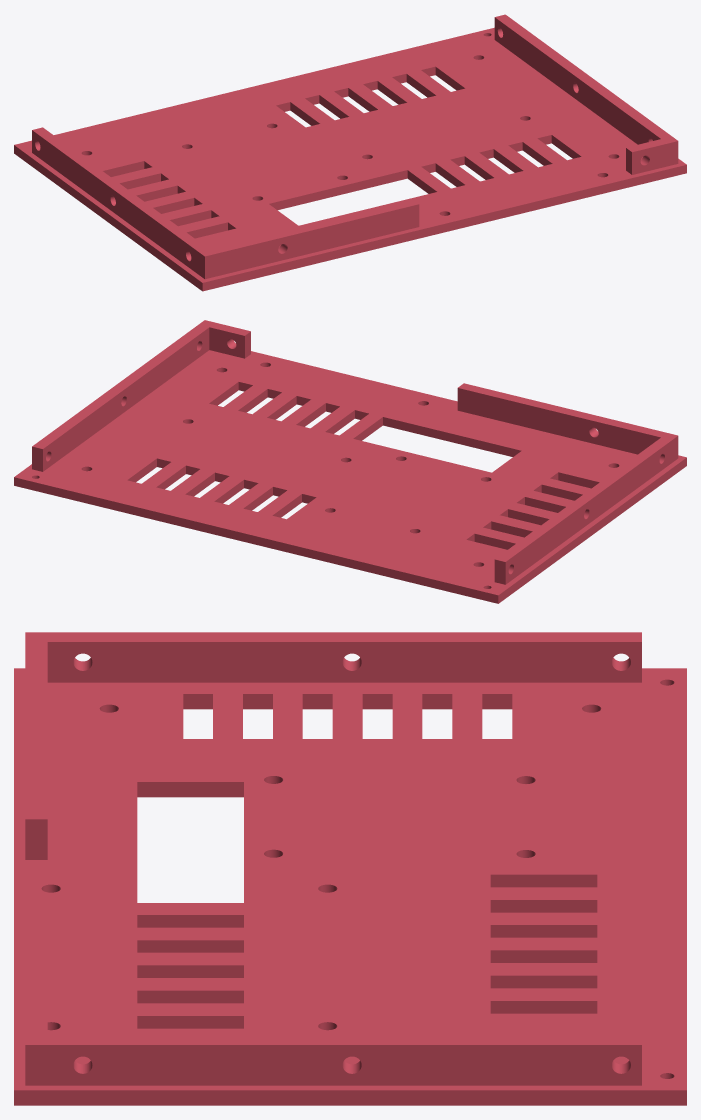
File: rav_frame_bottom_common.glb
3 views of the same model, one above another, from view 1: azimuth 30°, elevation 25°; view 2: azimuth 150°, elevation 25°; view 3: azimuth 270°, elevation 25° (orthographic). The views are drawn at different scales.
Parts seen in each view (by area): view 1: Mesh_Mesh_head_geo.001_lambert2SG.001; view 2: Mesh_Mesh_head_geo.001_lambert2SG.001; view 3: Mesh_Mesh_head_geo.001_lambert2SG.001.
Boxes of the visible parts, left/top/right/bottom form: Mesh_Mesh_head_geo.001_lambert2SG.001: left=14, top=14, right=686, bottom=291; Mesh_Mesh_head_geo.001_lambert2SG.001: left=14, top=320, right=686, bottom=603; Mesh_Mesh_head_geo.001_lambert2SG.001: left=14, top=632, right=686, bottom=1105.
Bounding box in the file's own units: 0.178 × 0.011 × 0.12.
